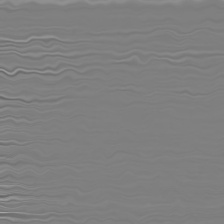cavities: (103, 81, 224, 136)
